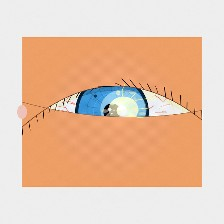corneal_ulcer: (99, 90, 148, 129)
